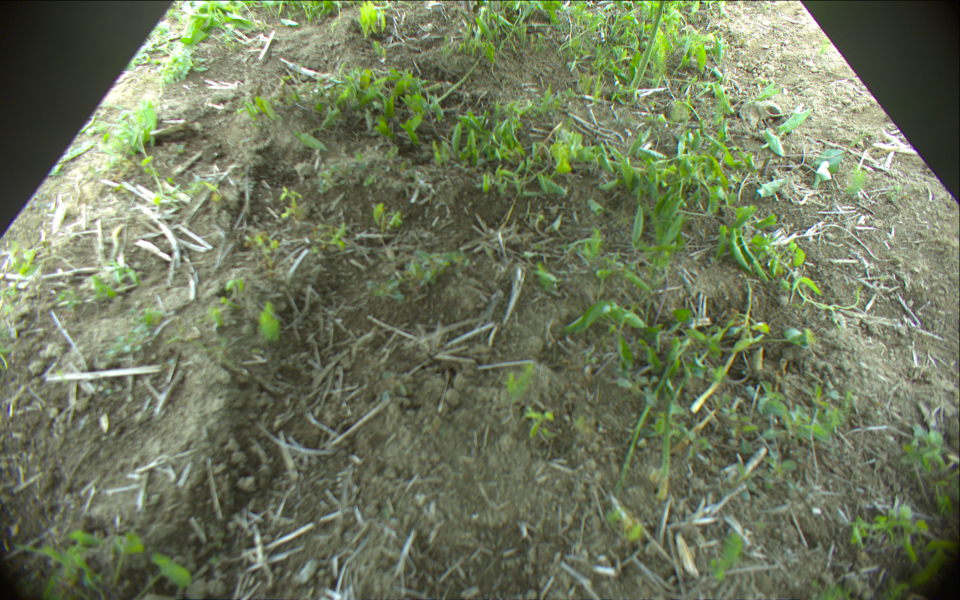aspa: (630, 1, 664, 92)
